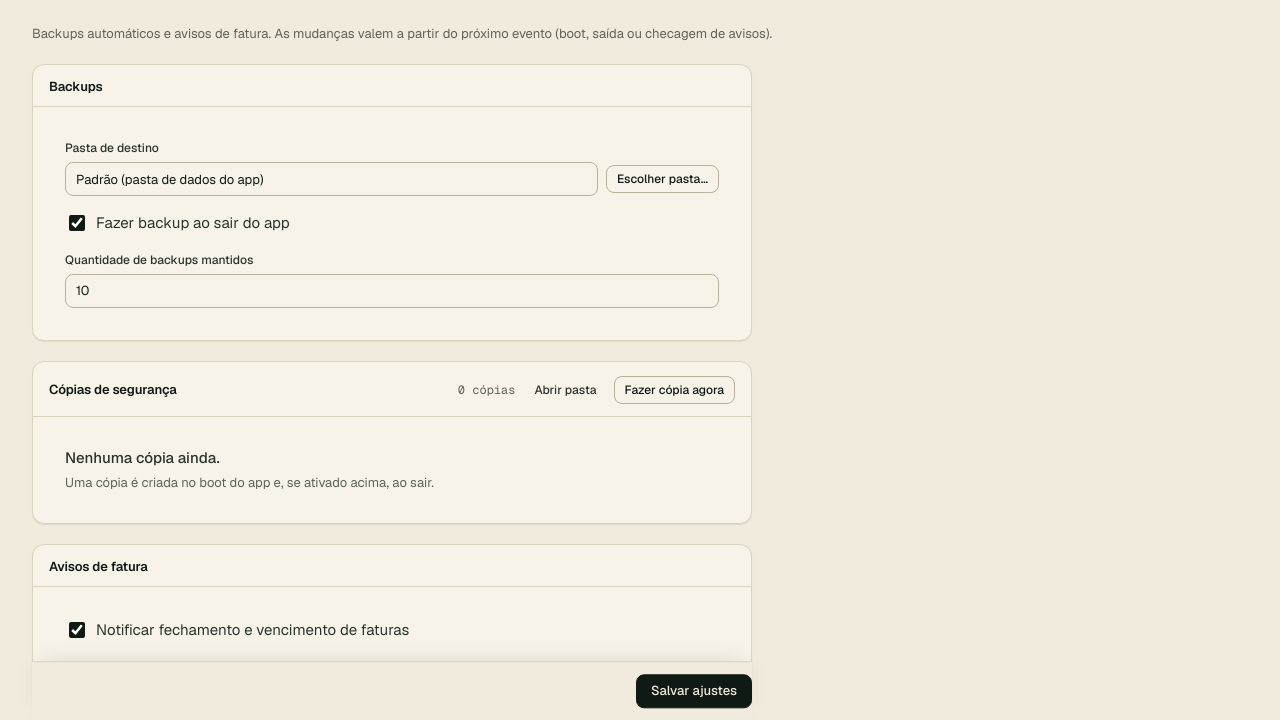
Test: AjustesPage › mostra a mensagem original quando o IPC falha
Expected: the number field labelled "Quantidade de backups mantidos" holds "10", x1=65 y1=274 x2=719 y2=308
Click the button "Salvar ajustes" at (694, 691), box x1=636 y1=674 x2=752 y2=708
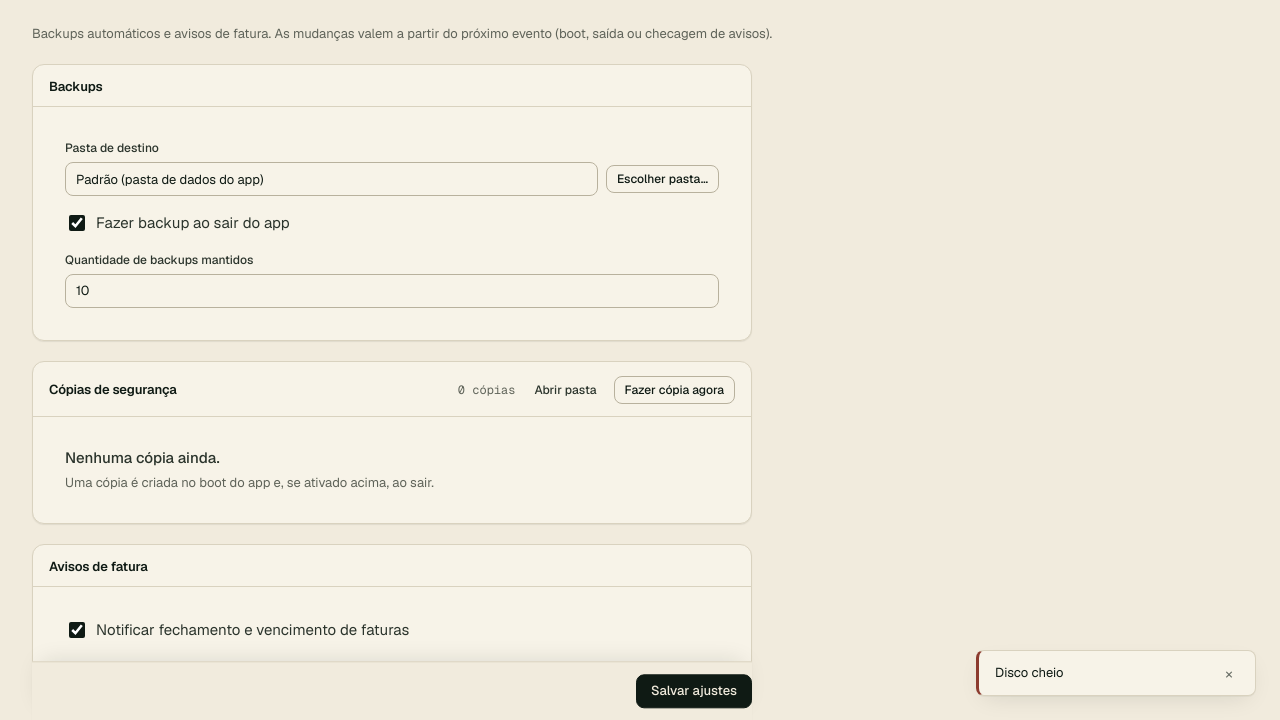
Result: the text "Disco cheio" is shown at x1=995 y1=664 x2=1064 y2=681
